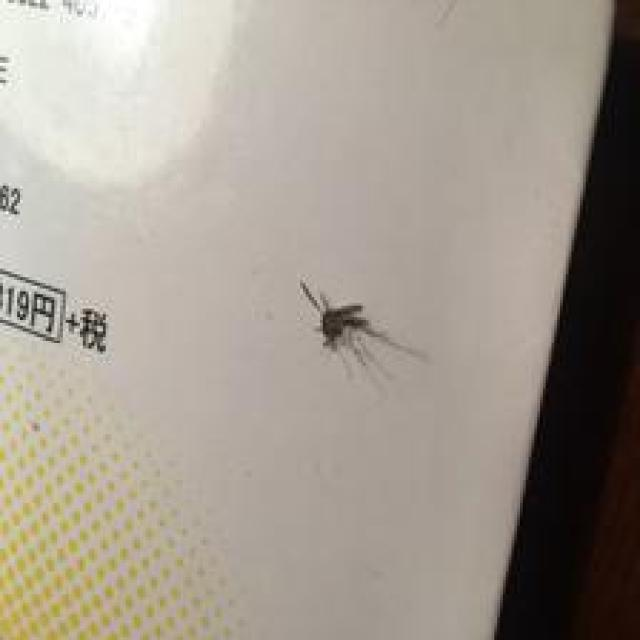Culex: (297, 277, 429, 386)
